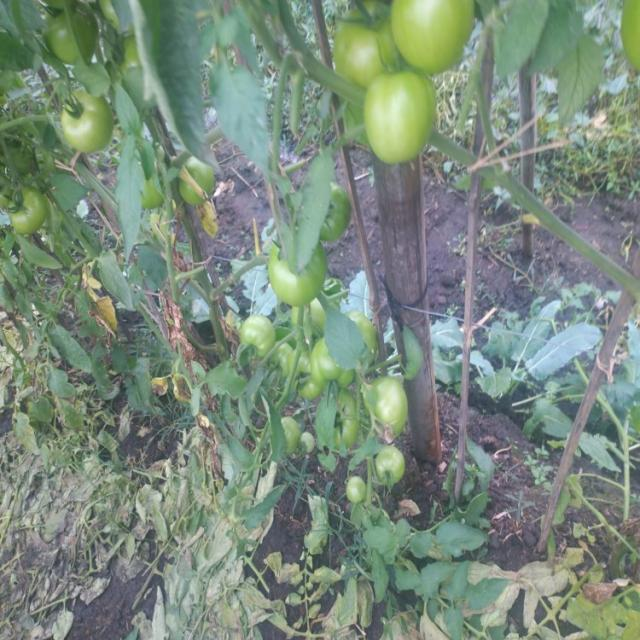tomato: (365, 78, 440, 165), (394, 1, 477, 73), (331, 3, 389, 75), (62, 90, 114, 154), (44, 6, 95, 63), (273, 246, 319, 305), (367, 376, 406, 435), (5, 182, 46, 237), (243, 316, 286, 368), (179, 159, 217, 210), (619, 4, 640, 79), (373, 442, 407, 485), (324, 187, 352, 239), (113, 37, 147, 73), (338, 388, 356, 448), (291, 356, 315, 400), (353, 308, 379, 348), (319, 344, 345, 382), (143, 168, 164, 213), (283, 412, 304, 454), (345, 478, 365, 506), (105, 4, 124, 33)
